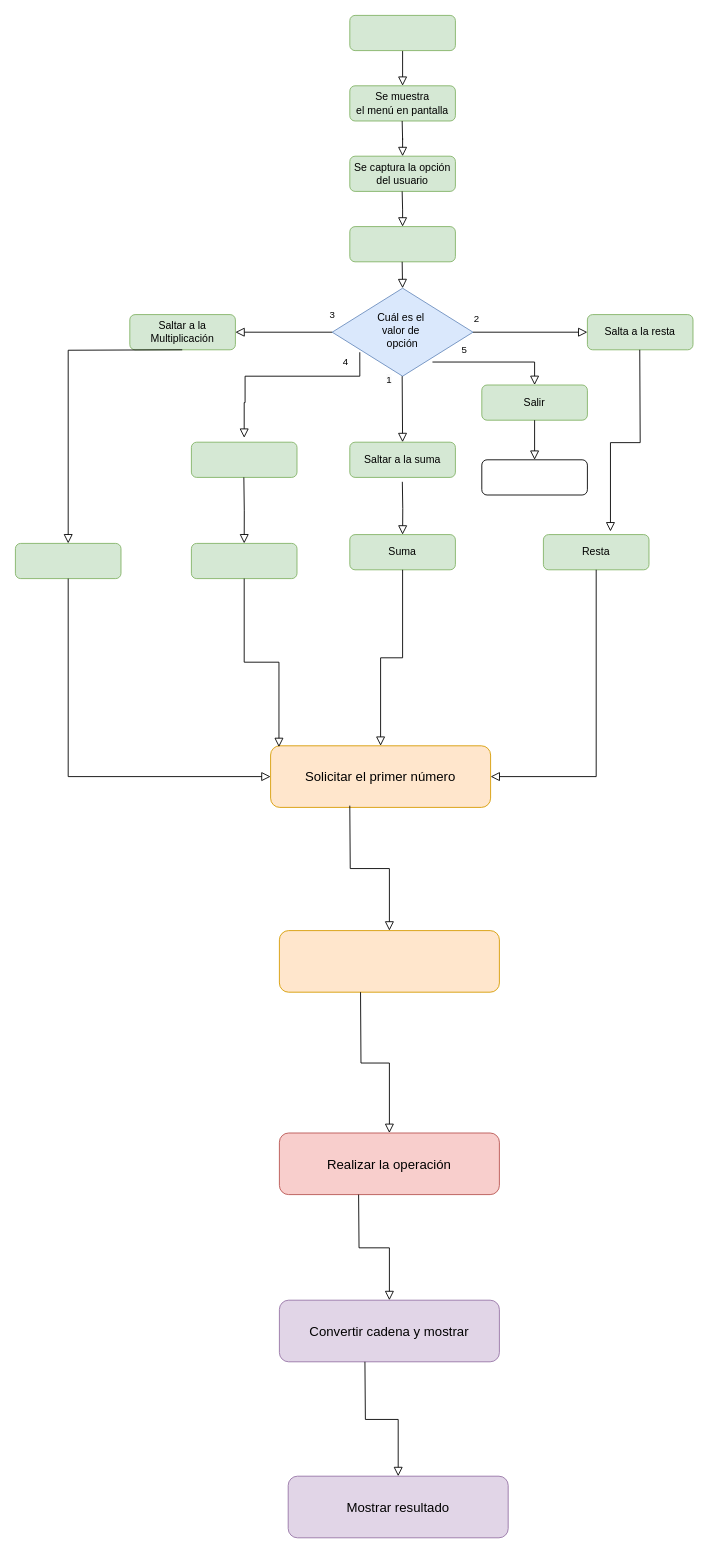
This 708x1553 diagram has some shape labels left out. The shapes that lost their labels are listed below. From the top down, each one's box as (x1, y1, x2, y2) in pixels, then its label:
(349, 15, 455, 51): Inicio del programa
(349, 226, 455, 262): Se convierte la opción en un entero
(191, 441, 297, 477): Salta a la división
(481, 459, 587, 495): FIN
(15, 543, 121, 579): Multiplicación
(191, 543, 297, 579): División
(279, 930, 499, 992): Solicitar el segundo número
